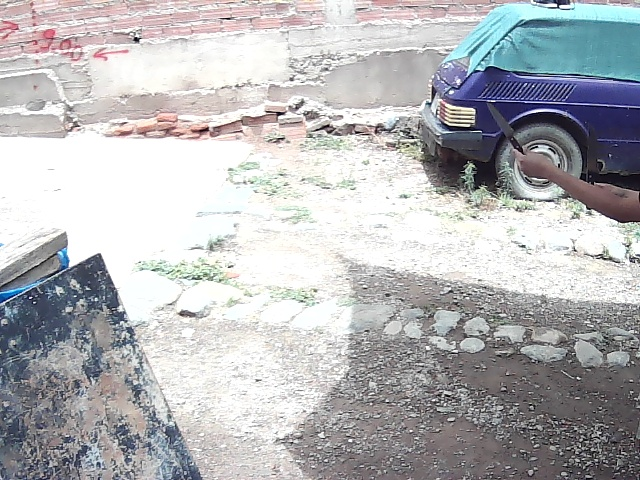cuchillo: (480, 97, 521, 148)
